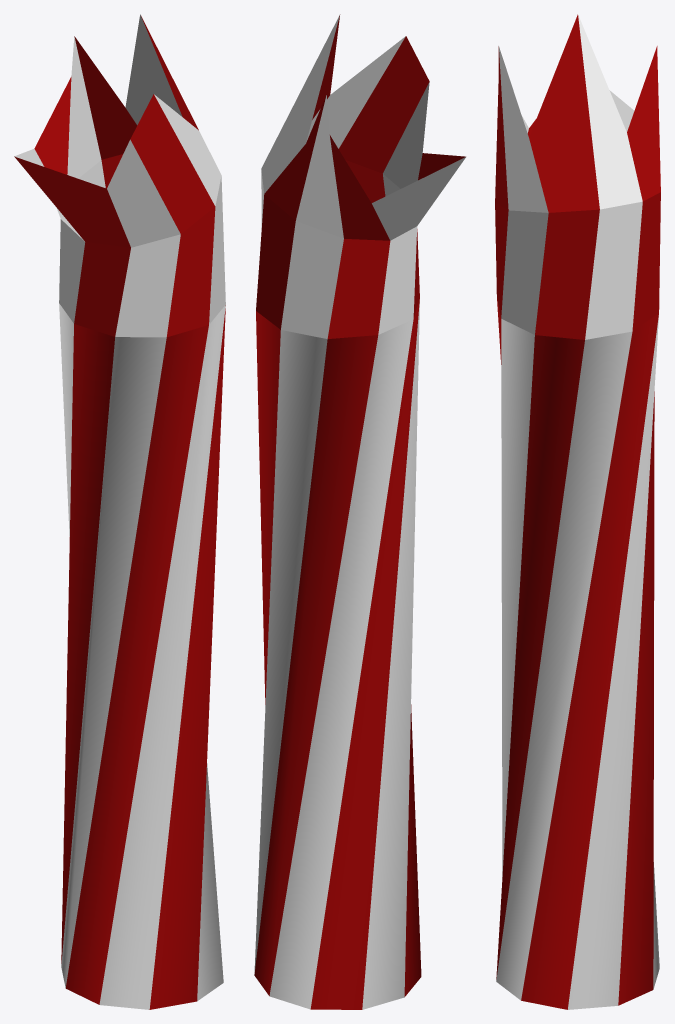
The model's file is CC_broken1.fbx.
3 renders of one model, left to right at view 1: azimuth 30°, elevation 25°; view 2: azimuth 150°, elevation 25°; view 3: azimuth 270°, elevation 25°, orthographic.
Parts seen in each view (by area): view 1: pCylinder1; view 2: pCylinder1; view 3: pCylinder1.
Boxes of the visible parts, box(x1,y1,x2,y2) form: pCylinder1: box(14, 14, 225, 1009); pCylinder1: box(254, 14, 465, 1009); pCylinder1: box(495, 14, 660, 1009).
Bounding box in the file's own units: 5.3 × 24.29 × 3.81.
1 material, 1 textured.
